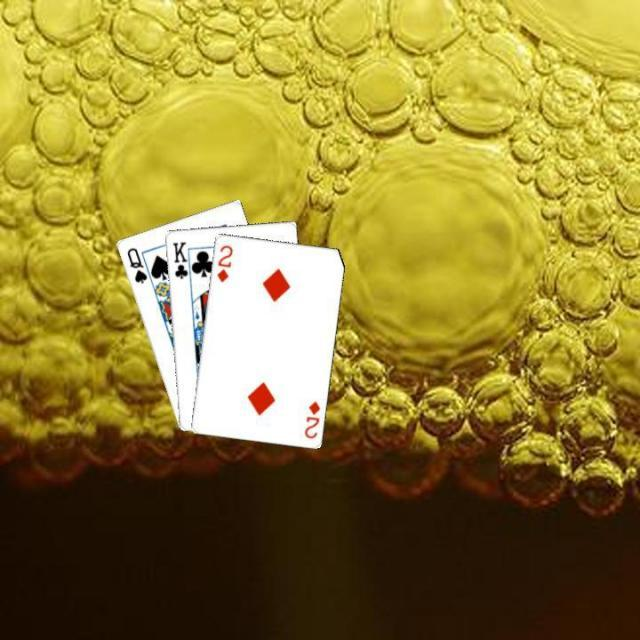2D: (300, 397, 322, 440), (214, 240, 234, 284)
KC: (169, 238, 193, 284)
QS: (122, 243, 148, 286)
